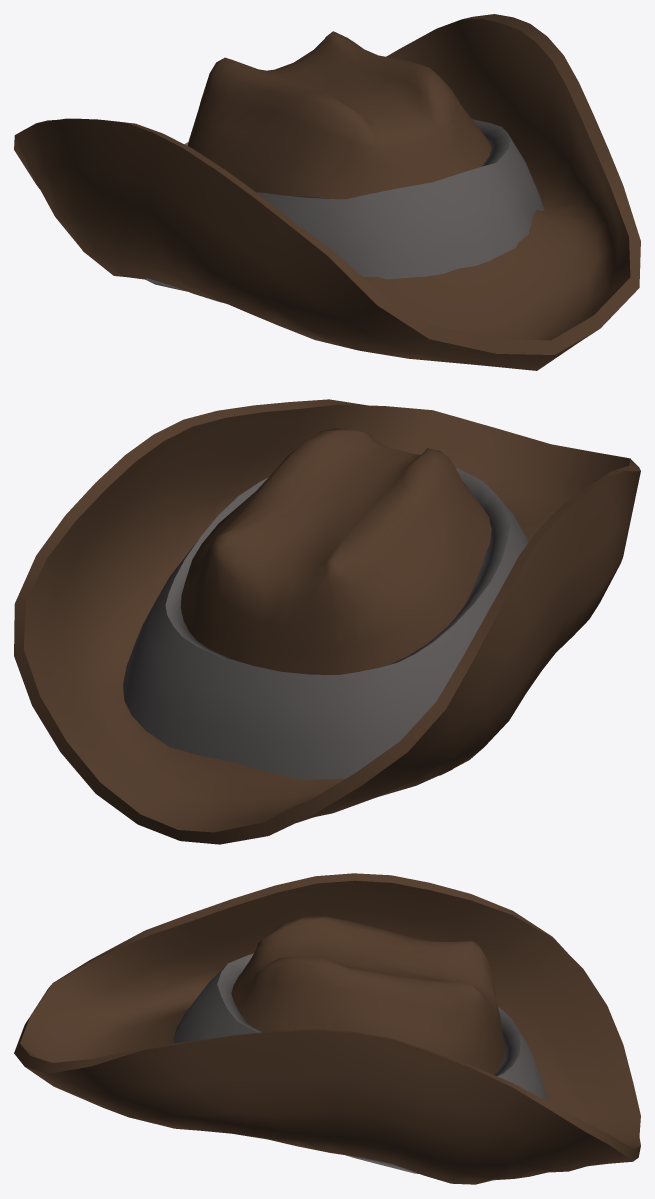
The model's file is catgirl-godot-cowgirl-hat.glb.
The picture shows the model from 3 angles, top to bottom: view 1: azimuth 30°, elevation 25°; view 2: azimuth 150°, elevation 25°; view 3: azimuth 270°, elevation 25°; orthographic projection. The views are drawn at different scales.
Visible parts, largest first — view 1: geo.accessory.cowgirl-hat; view 2: geo.accessory.cowgirl-hat; view 3: geo.accessory.cowgirl-hat.
Part boxes in pixels (x1,y1,x2,y2): geo.accessory.cowgirl-hat: (14, 14, 640, 370); geo.accessory.cowgirl-hat: (14, 399, 640, 844); geo.accessory.cowgirl-hat: (14, 873, 640, 1184).
Size of the model in its own units: 0.5513 by 0.3052 by 0.8163.
1 material, 1 textured.
